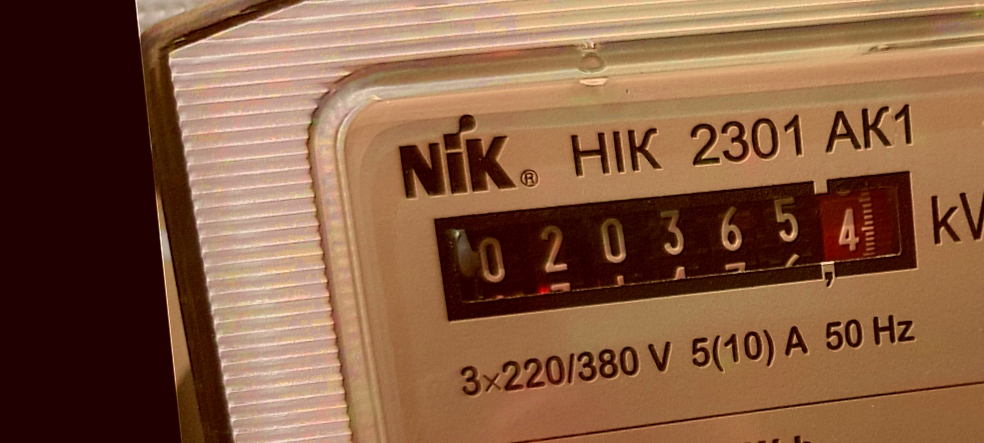0: (473, 230, 512, 288), (598, 214, 632, 267)
2: (536, 221, 572, 275)
3: (656, 206, 690, 258)
4: (834, 203, 862, 254)
5: (773, 195, 804, 244)
6: (715, 201, 746, 254)
screen: (419, 150, 938, 339)
